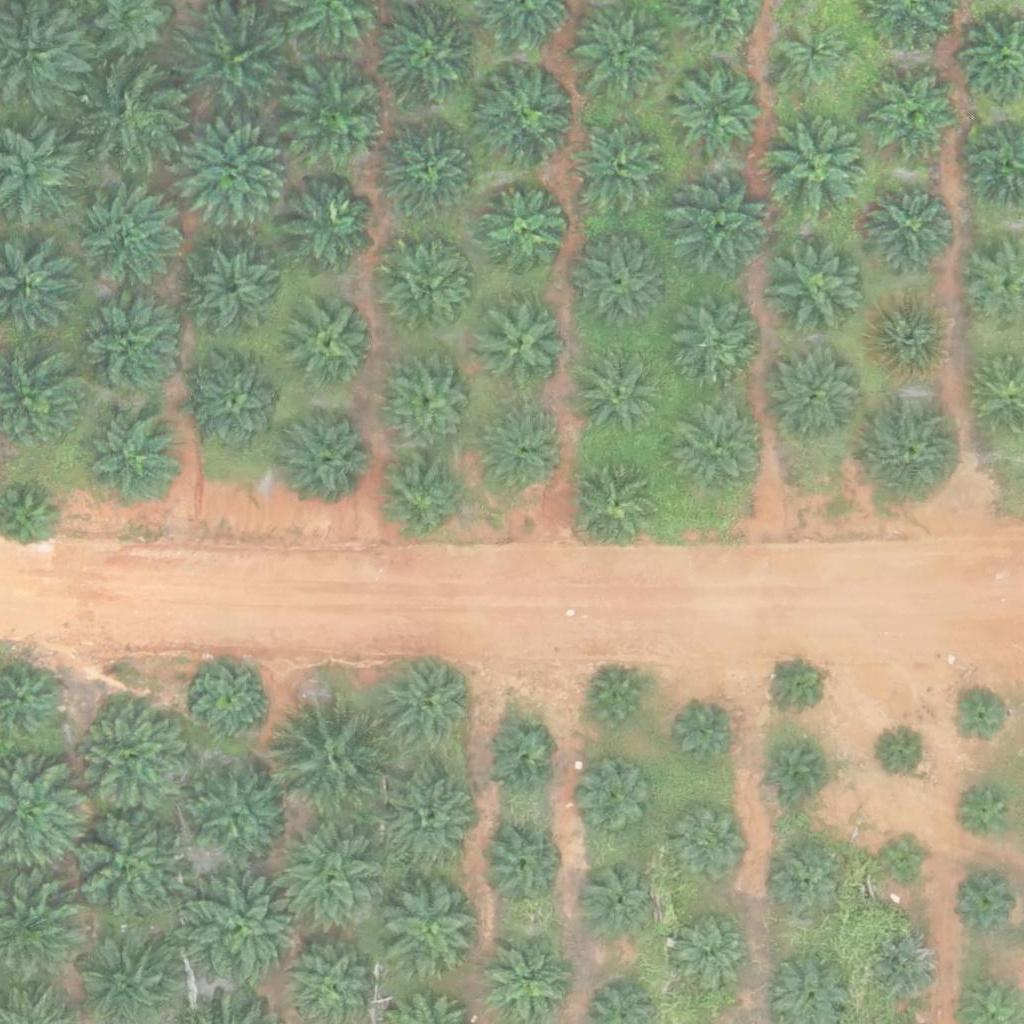Kelapa_Sawit: (73, 692, 198, 818), (61, 803, 186, 929), (181, 867, 306, 993), (272, 693, 397, 819), (268, 816, 393, 942), (175, 124, 288, 238), (172, 4, 285, 117), (770, 119, 870, 220), (669, 179, 769, 280), (572, 1, 672, 102), (571, 118, 671, 219), (569, 234, 669, 335), (477, 65, 577, 166), (378, 8, 478, 109), (380, 118, 480, 219), (288, 62, 388, 163), (77, 296, 177, 397), (82, 406, 182, 507), (666, 392, 766, 493), (768, 240, 868, 341), (766, 344, 866, 445), (865, 398, 965, 499), (277, 174, 377, 274), (84, 67, 184, 167), (77, 188, 177, 288), (188, 355, 288, 455), (280, 406, 380, 506), (382, 352, 482, 452), (187, 764, 287, 864), (377, 656, 477, 756), (381, 772, 481, 872), (381, 879, 481, 979), (872, 71, 960, 159), (866, 181, 954, 269), (479, 189, 567, 277), (185, 247, 273, 335), (479, 302, 567, 390), (481, 408, 569, 496), (577, 348, 665, 436), (574, 458, 662, 546), (866, 292, 954, 380), (478, 821, 565, 909), (674, 67, 761, 155), (385, 248, 472, 336), (288, 298, 375, 386), (382, 455, 469, 543), (681, 295, 768, 383), (777, 21, 852, 97), (672, 912, 747, 988), (582, 860, 657, 936), (194, 661, 269, 737), (482, 721, 557, 797), (580, 763, 655, 838), (673, 805, 748, 880), (771, 849, 846, 924), (870, 934, 945, 1009), (765, 653, 828, 716), (766, 742, 829, 805), (585, 669, 647, 732), (675, 702, 737, 765), (950, 684, 1012, 747), (954, 784, 1016, 847), (954, 871, 1016, 934), (880, 728, 930, 779), (879, 834, 929, 885)
